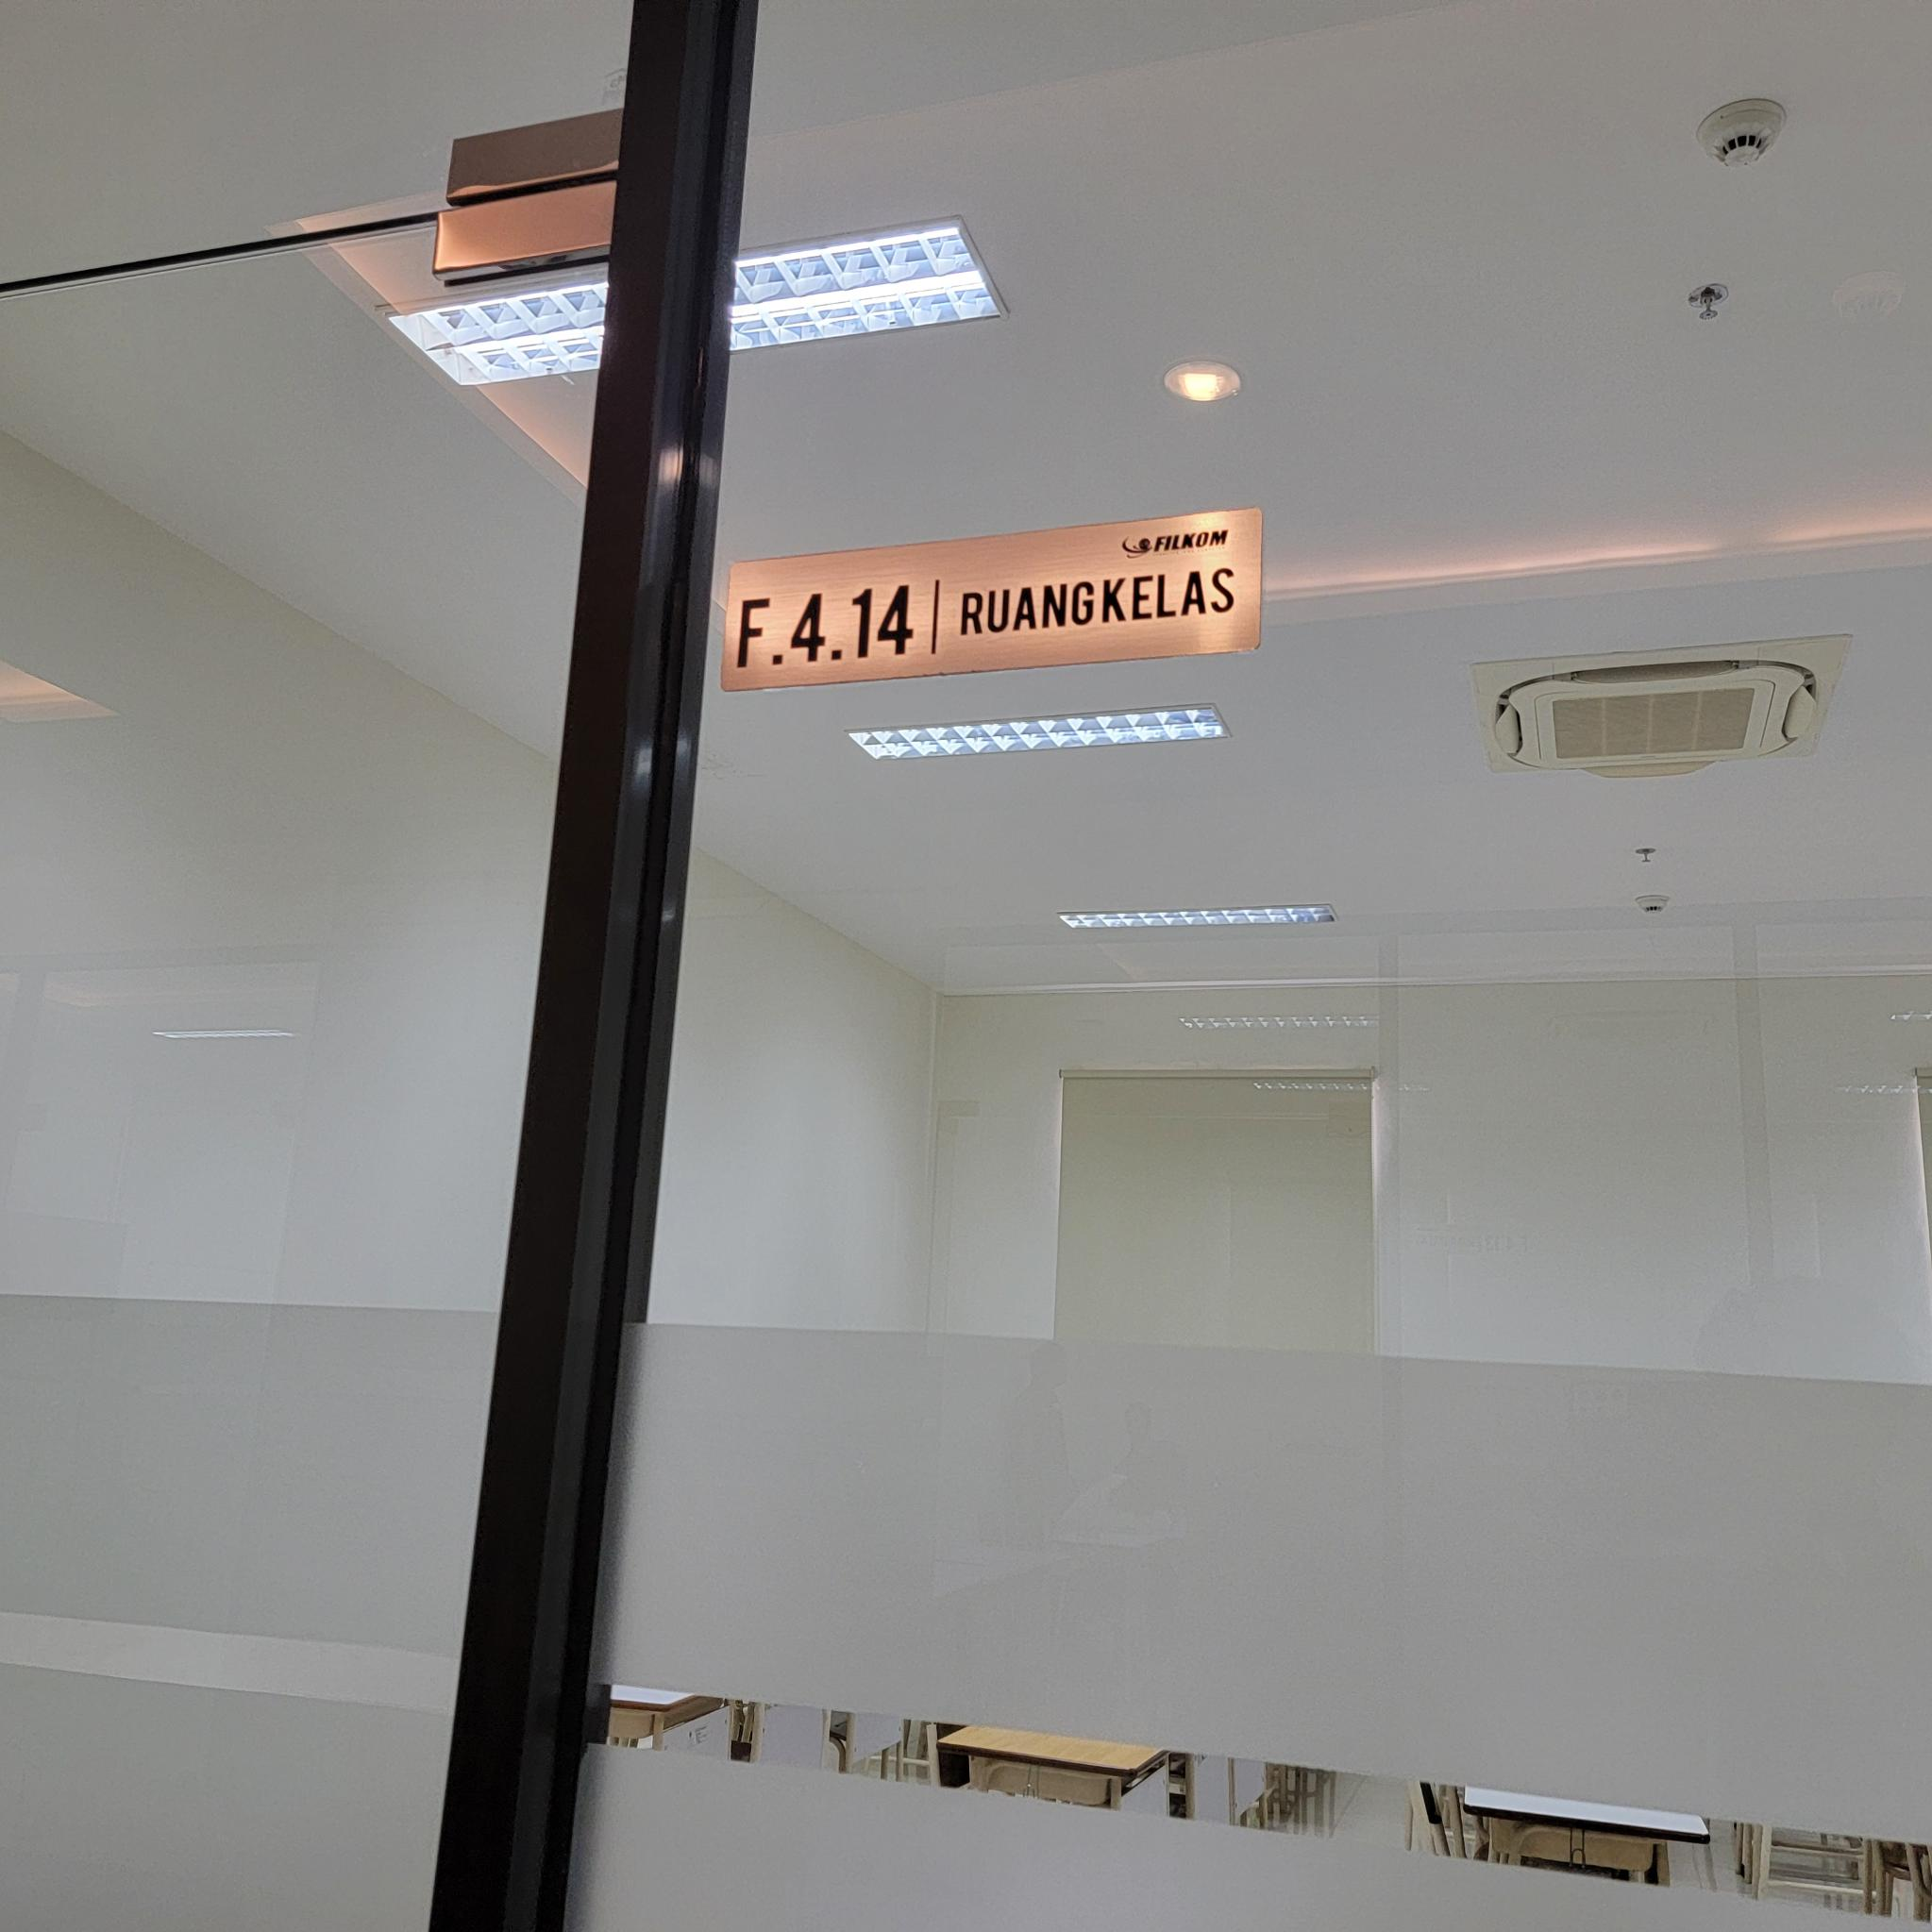plate: (720, 501, 1263, 694)
